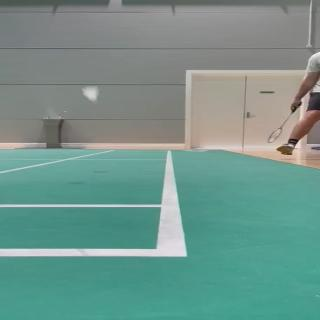Shuttle: (81, 85, 99, 104)
